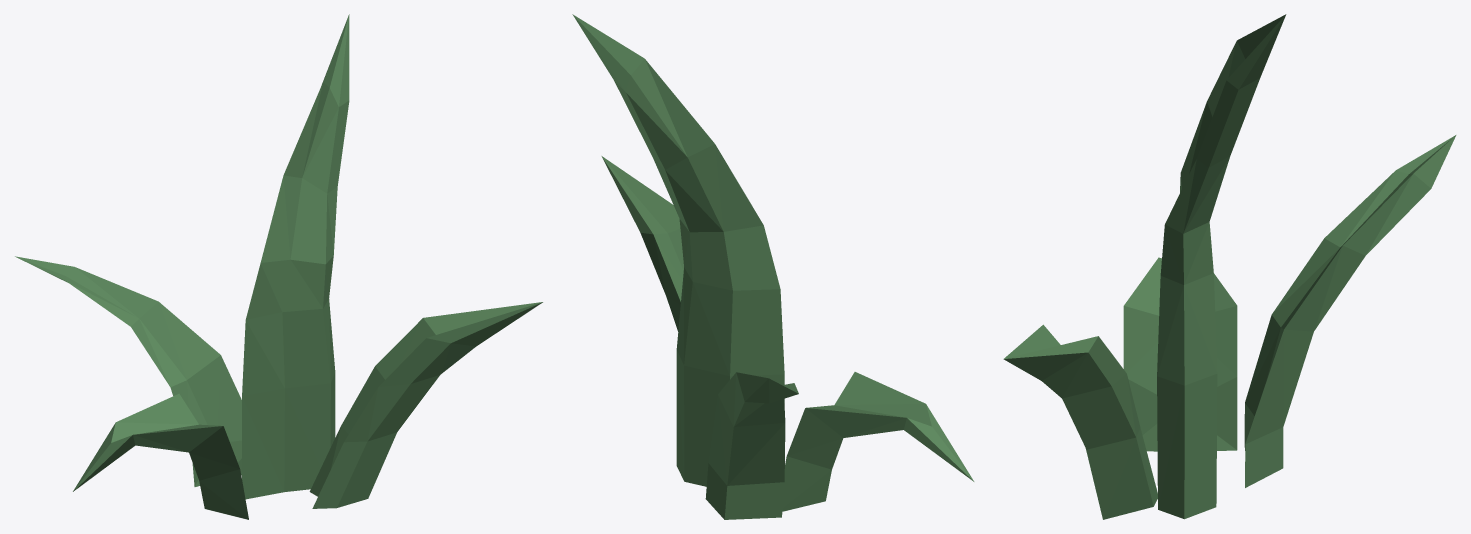
Rendered from grass_1.obj.
3 renders of one model, left to right at view 1: azimuth 30°, elevation 25°; view 2: azimuth 150°, elevation 25°; view 3: azimuth 270°, elevation 25°, orthographic. The views are drawn at different scales.
Visible parts, largest first — view 1: grass_1; view 2: grass_1; view 3: grass_1.
Boxes of the visible parts, left/top/right/bottom form: grass_1: left=15, top=14, right=542, bottom=519; grass_1: left=572, top=14, right=974, bottom=519; grass_1: left=1003, top=14, right=1456, bottom=519.
Bounding box in the file's own units: 0.7765 × 0.7738 × 0.5899.
